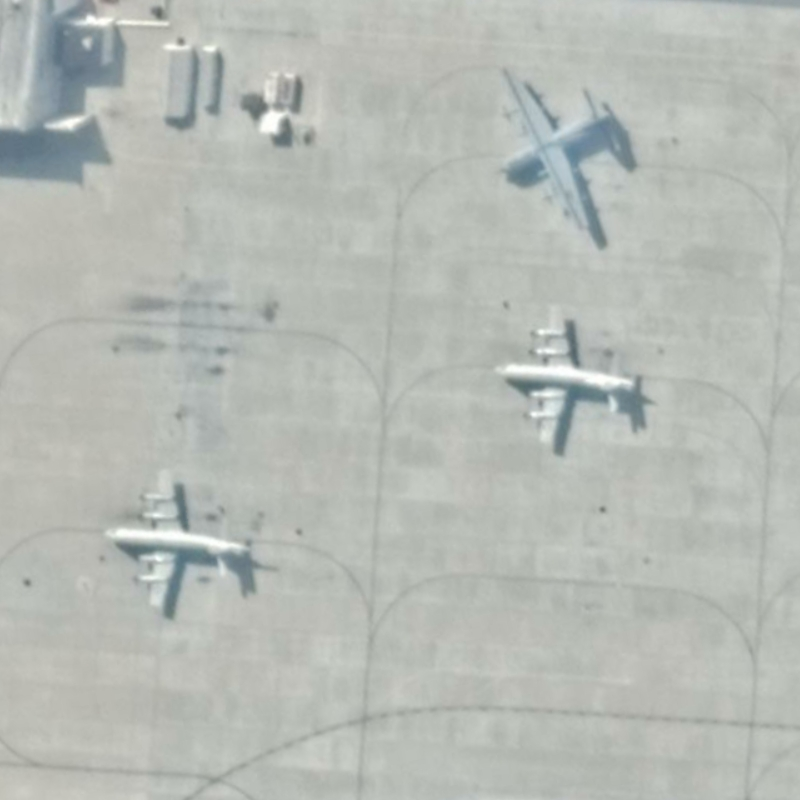A2: (487, 56, 638, 239)
A9: (98, 464, 257, 618), (491, 299, 642, 457)
